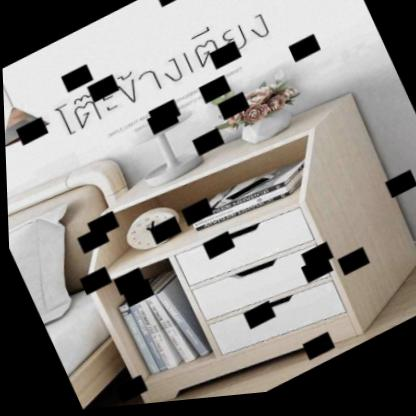Nightstand: (54, 74, 416, 412)
